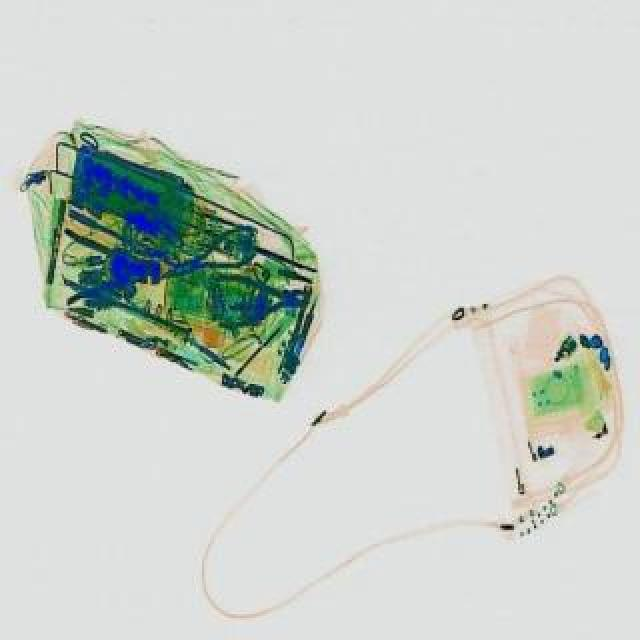wrench: (152, 218, 264, 292), (58, 226, 160, 304), (214, 272, 310, 326)
